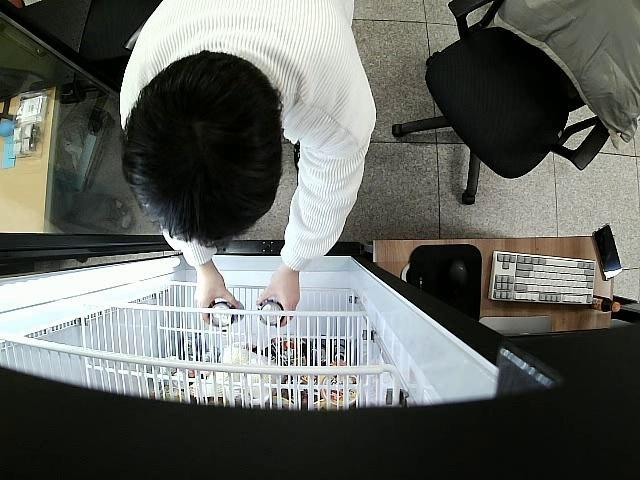14_welchsGrape: (208, 300, 244, 328), (257, 299, 285, 328)
